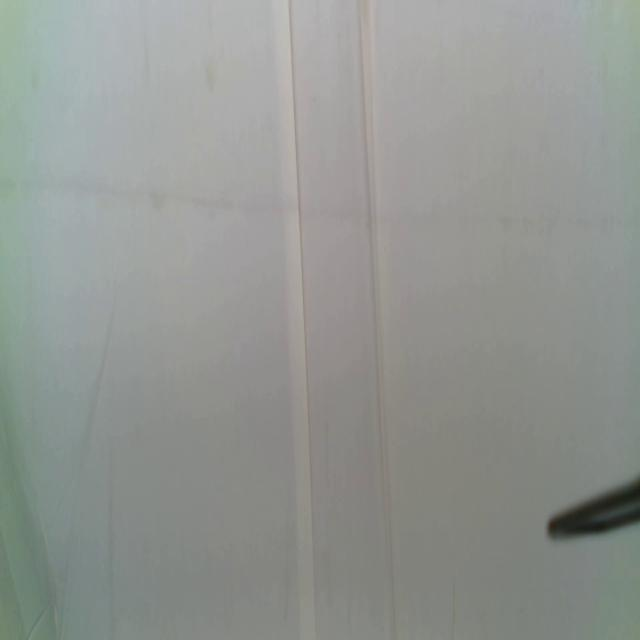color bleeding: (0, 171, 640, 242)
crease: (273, 1, 317, 636), (355, 0, 395, 636)
